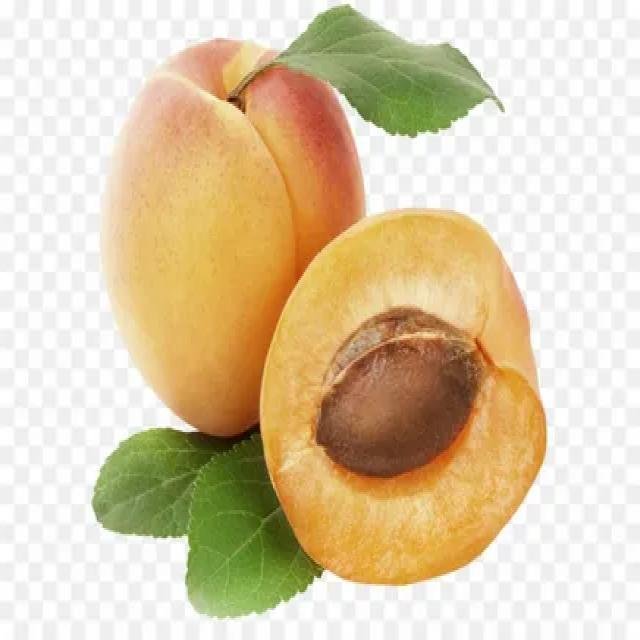Cekirdek: (316, 330, 480, 476)
Kayisi: (103, 44, 298, 432)
Yaprak: (94, 428, 321, 612)
